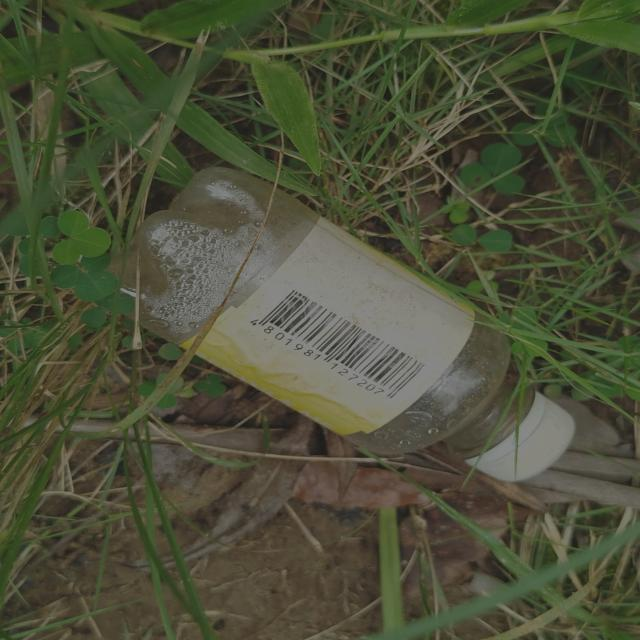plastic: (91, 157, 592, 495)
